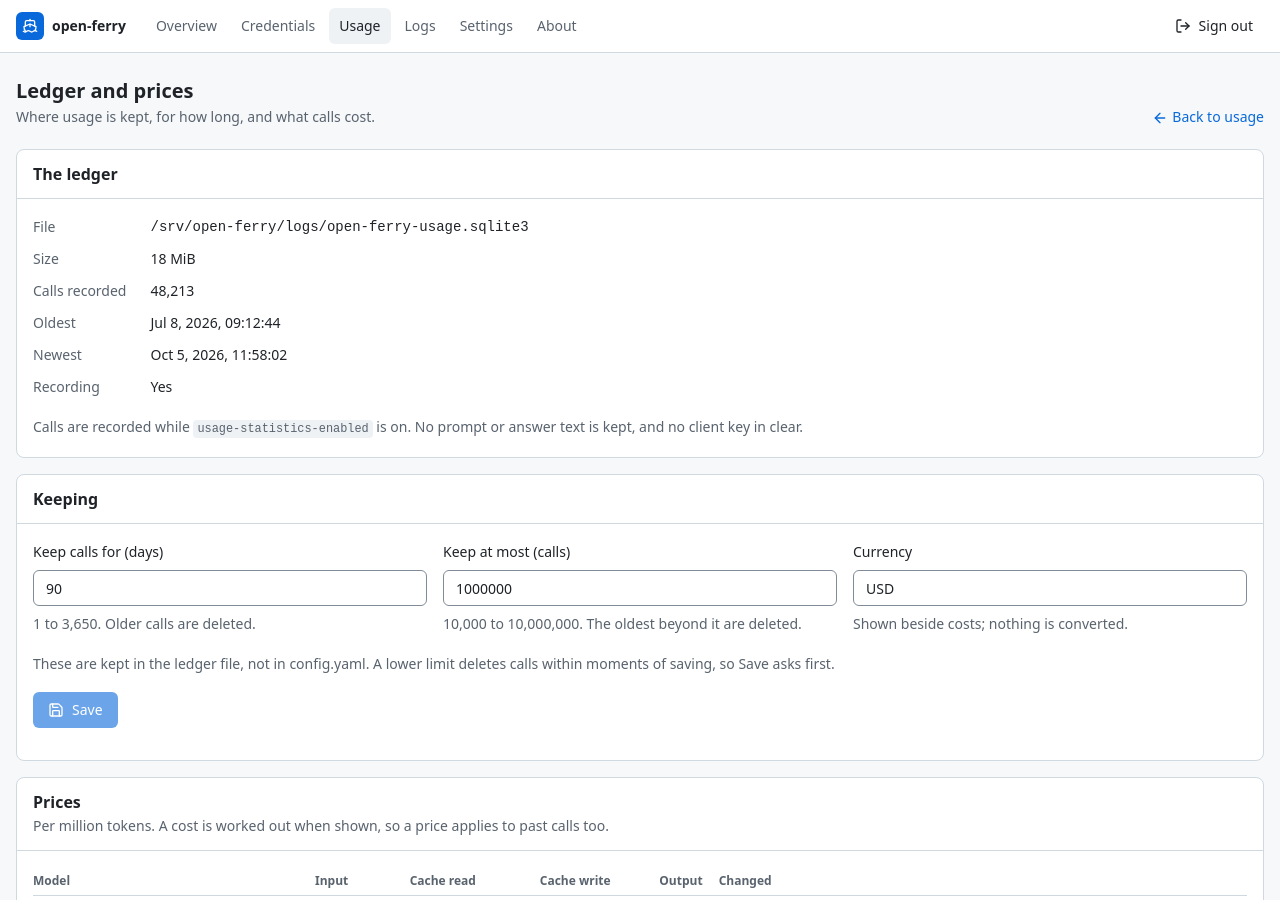
it: the Ledger and prices page › saves a new currency at once
Replace the text in the field labelled "Currency" with "EUR" at (1050, 588), box [853,570,1247,606]
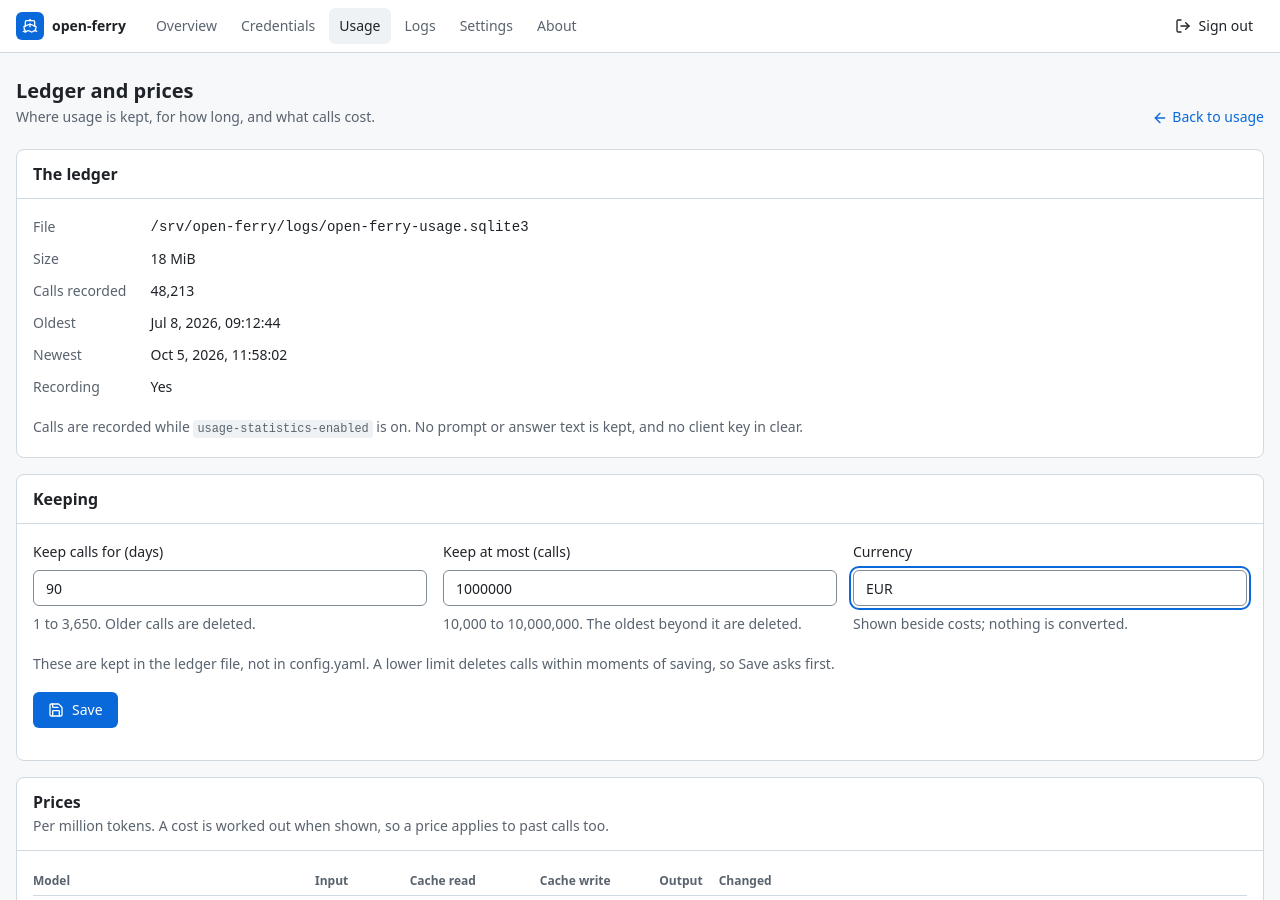
Click the button "Save".
click(75, 710)  # box [33,692,118,728]
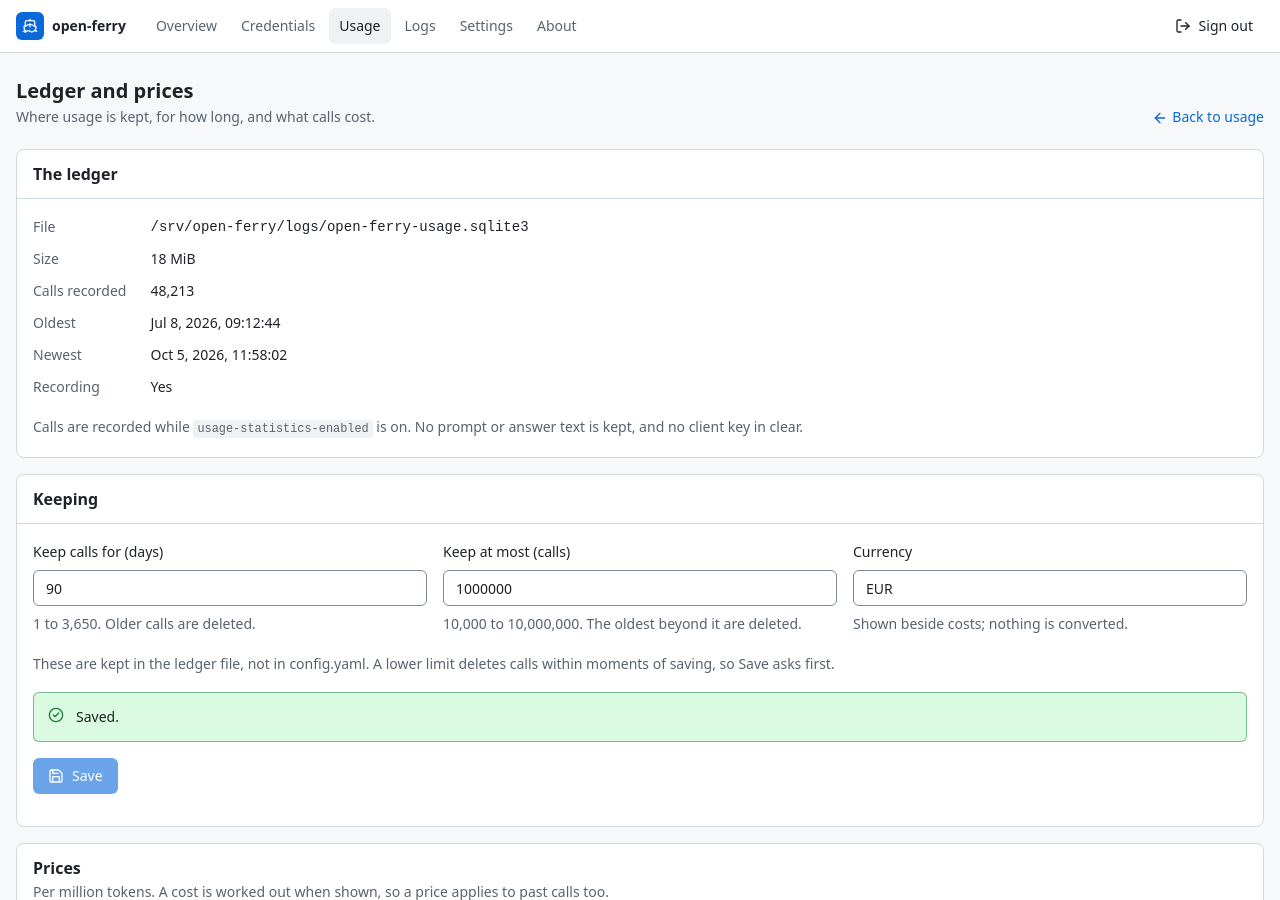
Expected: the text "Saved." is shown, [76,705,119,729]
